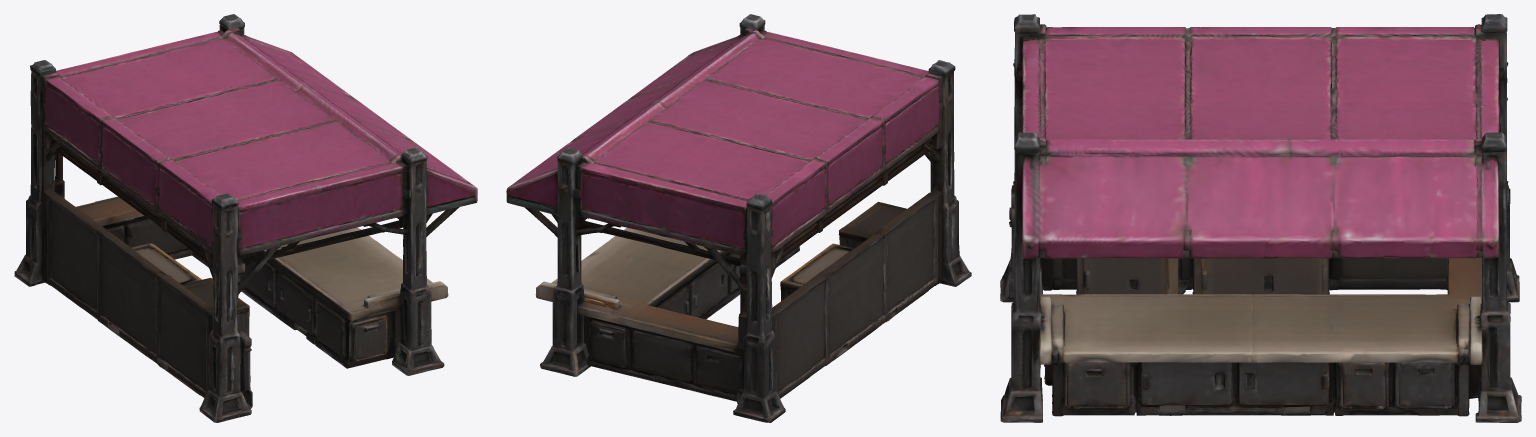
Rendered from kairox-market-stall.glb.
The picture shows the model from 3 angles, left to right: view 1: azimuth 30°, elevation 25°; view 2: azimuth 150°, elevation 25°; view 3: azimuth 270°, elevation 25°; orthographic projection. The views are drawn at different scales.
Visible parts, largest first — view 1: kairox-market-stall; view 2: kairox-market-stall; view 3: kairox-market-stall.
Boxes of the visible parts, left/top/right/bottom form: kairox-market-stall: left=14, top=14, right=477, bottom=422; kairox-market-stall: left=506, top=14, right=971, bottom=422; kairox-market-stall: left=1000, top=14, right=1521, bottom=422.
Size of the model in its own units: 4 by 3 by 5.16.
1 material, 1 textured.
